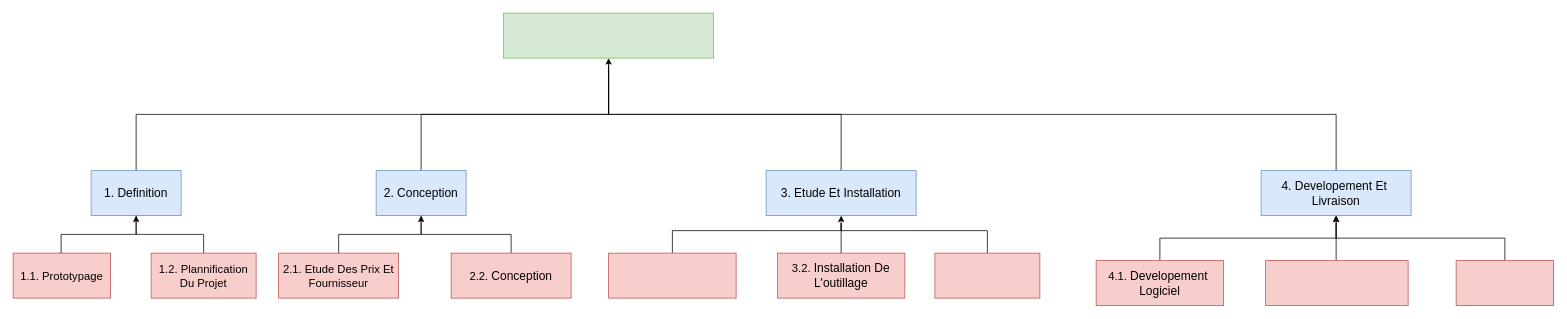
The diagram is 1567 pixels wide and 319 high, and some of its shapes have lost their labels. The shapes that lost their labels are listed below. From the top down, each one's box as (x1, y1, x2, y2) in pixels, then its label:
(503, 12, 714, 58): Realization D'un Prototype Industrielle
(608, 252, 736, 298): 3.1. Electronique Embarque
(934, 252, 1040, 298): 3.3. Etude De Fiabilite
(1265, 260, 1408, 306): 4.2. mise en place de la pre-serie
(1455, 260, 1554, 306): 4.3. pre-serie
